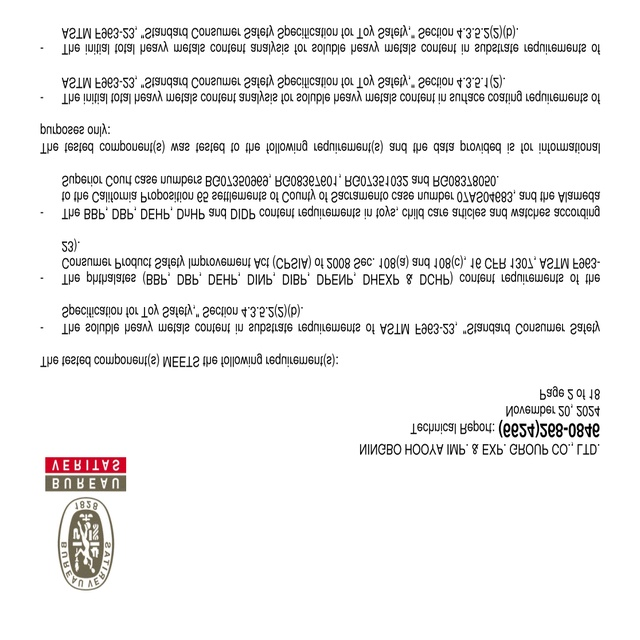bureau_veritas: (38, 452, 133, 592)
